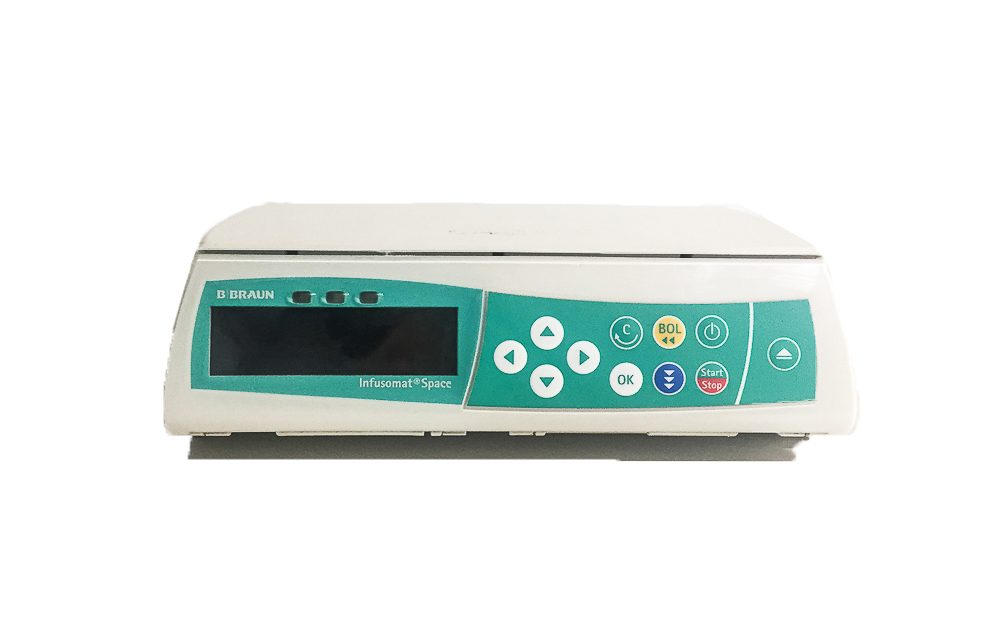BBraun Infusomat Space: (159, 191, 865, 450)
